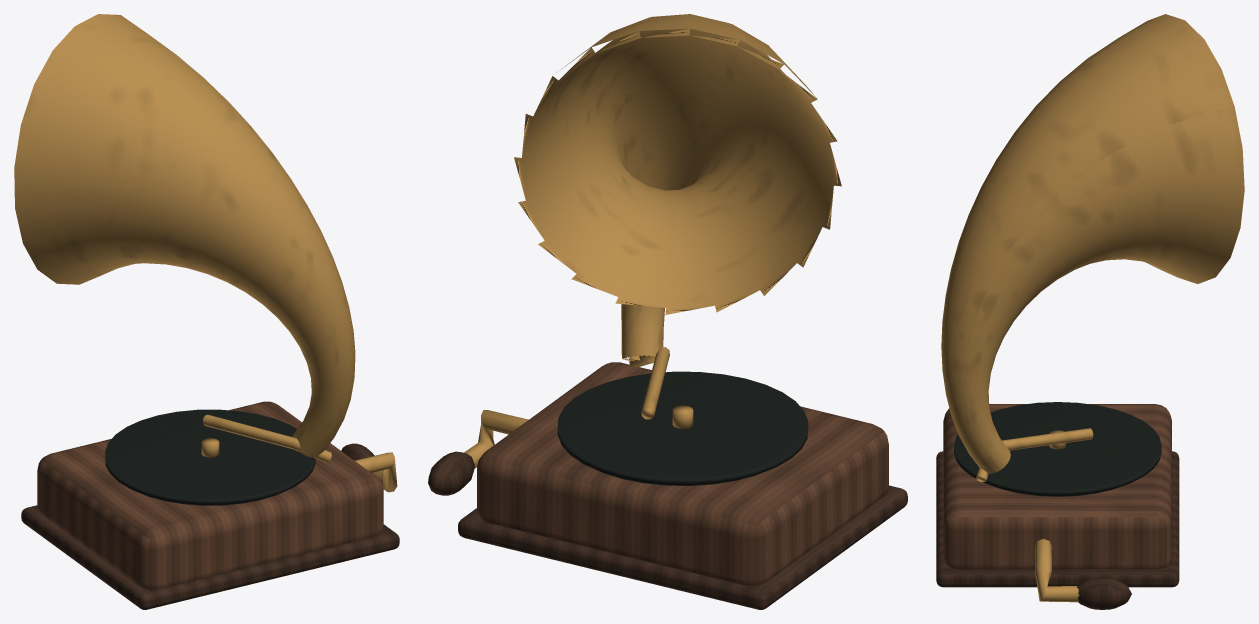
The model's file is gramophone.glb.
The picture shows the model from 3 angles, left to right: view 1: azimuth 30°, elevation 25°; view 2: azimuth 150°, elevation 25°; view 3: azimuth 270°, elevation 25°; orthographic projection. The views are drawn at different scales.
Parts seen in each view (by area): view 1: Horn, Cabinet, Turntable, Plinth, ToneArm, Crank; view 2: Horn, Cabinet, Turntable, Plinth, Crank, ToneArm; view 3: Horn, Cabinet, Turntable, Plinth, Crank, ToneArm.
Part boxes in pixels (x1,y1,x2,y2): Horn: [14, 14, 355, 457]; Cabinet: [37, 401, 383, 589]; Turntable: [105, 409, 315, 505]; Plinth: [21, 505, 399, 609]; ToneArm: [203, 414, 331, 462]; Crank: [341, 443, 397, 492]; Horn: [514, 14, 841, 361]; Cabinet: [477, 362, 888, 585]; Turntable: [557, 371, 808, 485]; Plinth: [458, 485, 907, 609]; Crank: [428, 410, 528, 495]; ToneArm: [629, 347, 669, 419]; Horn: [941, 14, 1244, 473]; Cabinet: [943, 404, 1171, 569]; Turntable: [954, 402, 1161, 496]; Plinth: [936, 451, 1179, 587]; Crank: [1035, 539, 1131, 609]; ToneArm: [976, 428, 1093, 482].
Size of the model in its own units: 0.4173 by 0.5472 by 0.3237.
4 materials, 4 textured.
